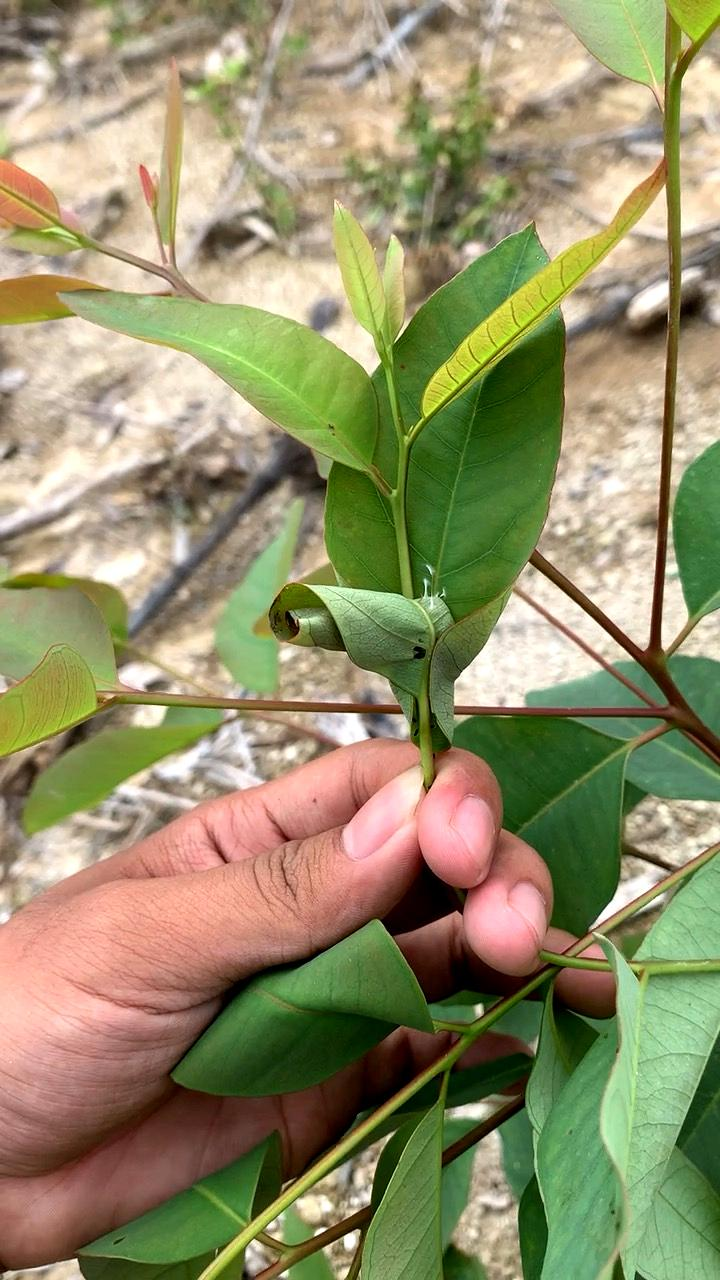Leaf Roller - Leaf: (233, 553, 477, 712)
